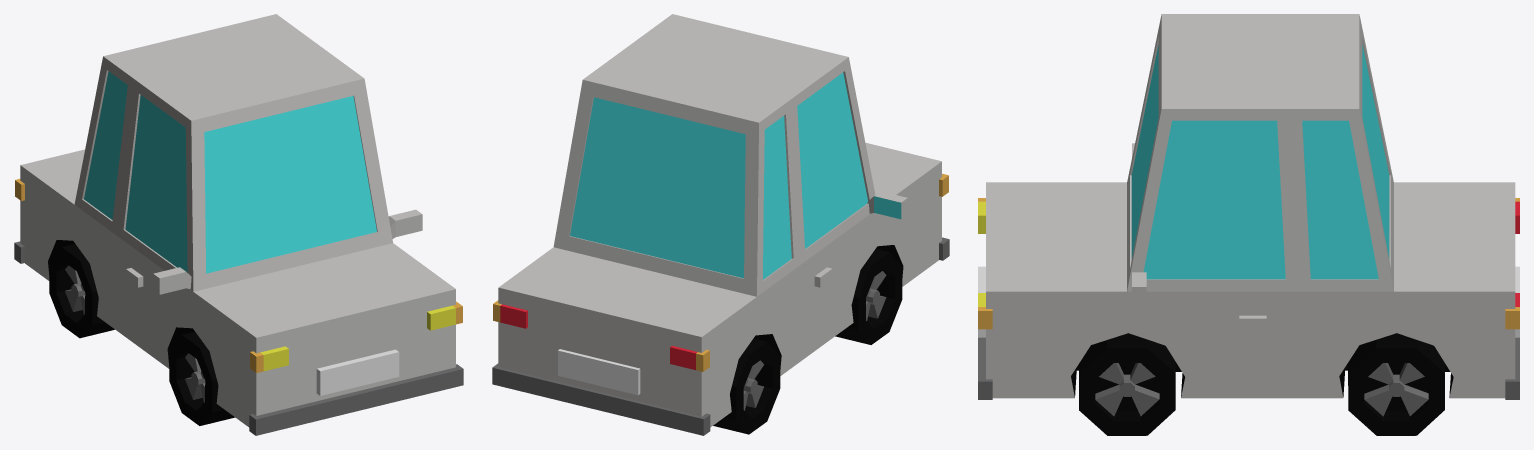
File: Car1.fbx
3 views of the same model, side by side, from view 1: azimuth 30°, elevation 25°; view 2: azimuth 150°, elevation 25°; view 3: azimuth 270°, elevation 25° (orthographic). The views are drawn at different scales.
Visible parts, largest first — view 1: Car Body.001, Front Bumper.001, Rear Right Wheel.001, Front Right Wheel.001, Front License Plate.001, Door Mirrors.001, Head Lights.001; view 2: Car Body.001, Rear Bumper.001, Front Right Wheel.001, Rear Right Wheel.001, Rear License Plate.001, Break Lights.001, Door Mirrors.001; view 3: Car Body.001, Rear Left Wheel.001, Front Left Wheel.001, Head Lights.001, Front Bumper.001, Break Lights.001, Door Mirrors.001, Rear Bumper.001.
Part boxes in pixels (<box>): Car Body.001: <box>20,14,455,427</box>; Front Bumper.001: <box>249,364,463,435</box>; Rear Right Wheel.001: <box>49,244,114,338</box>; Front Right Wheel.001: <box>169,332,234,425</box>; Front License Plate.001: <box>316,349,399,395</box>; Door Mirrors.001: <box>153,209,422,294</box>; Head Lights.001: <box>250,301,462,372</box>; Car Body.001: <box>498,14,941,427</box>; Rear Bumper.001: <box>492,363,710,435</box>; Front Right Wheel.001: <box>835,249,902,344</box>; Rear Right Wheel.001: <box>713,338,780,434</box>; Rear License Plate.001: <box>558,349,640,395</box>; Break Lights.001: <box>493,300,709,371</box>; Door Mirrors.001: <box>867,191,907,219</box>; Car Body.001: <box>986,14,1515,398</box>; Rear Left Wheel.001: <box>1348,333,1444,435</box>; Front Left Wheel.001: <box>1079,333,1175,435</box>; Head Lights.001: <box>978,198,992,329</box>; Front Bumper.001: <box>978,337,992,399</box>; Break Lights.001: <box>1505,198,1519,329</box>; Door Mirrors.001: <box>1132,143,1146,305</box>; Rear Bumper.001: <box>1505,337,1519,399</box>.
Size of the model in its own units: 409 by 422 by 651.
